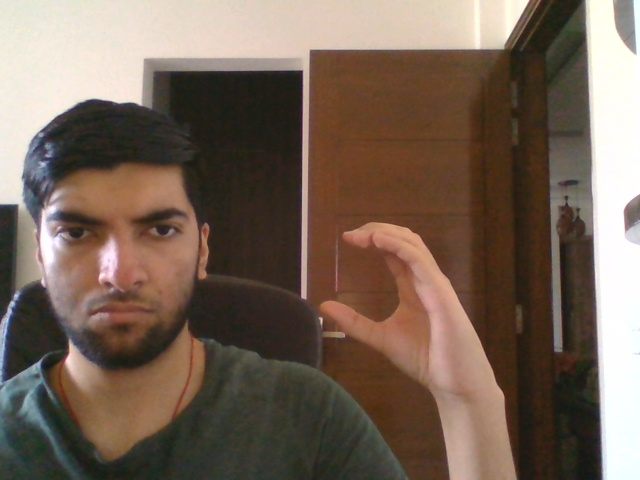LetterC: (317, 221, 504, 400)
